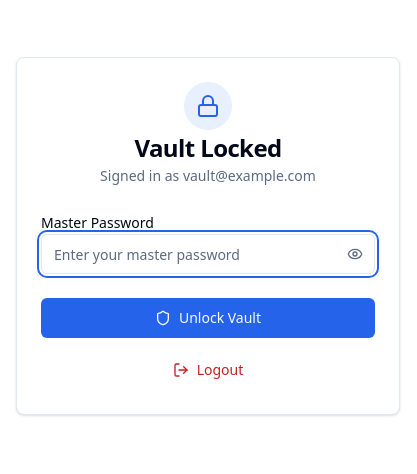
Scenario: unlock — transient failures must not cost the user their session › a 429 with no Retry-After still explains itself
This screenshot has width=417, height=474.
Type "whatever" into the password field labelled "Master Password".
click(208, 254); type("whatever")  # box [41,234,375,274]
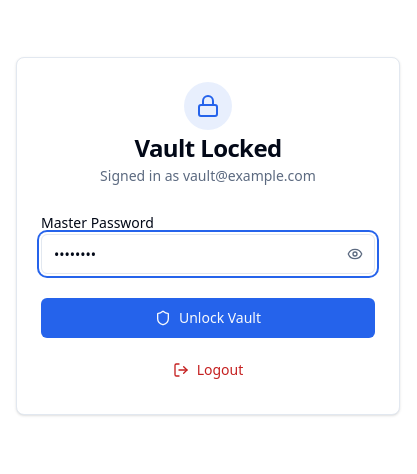
Click the button "Unlock Vault".
click(208, 318)  # box [41,298,375,338]
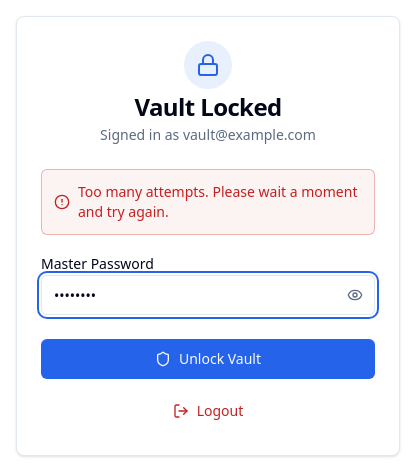
Expected: the text "Too many attempts. Please wait a moment and try again." is shown, [78,182,362,222]
